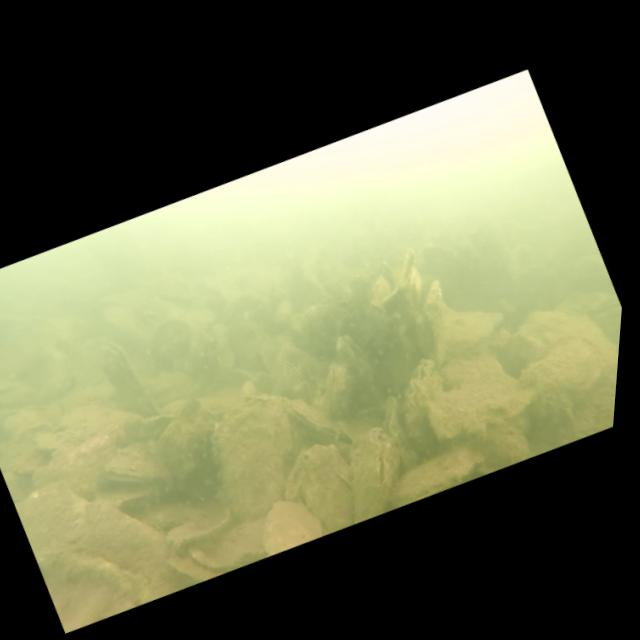Oyster-Closed: (322, 414, 425, 528), (134, 384, 236, 492), (382, 431, 492, 516), (378, 350, 464, 447), (272, 377, 358, 466), (367, 391, 426, 471), (269, 349, 317, 408), (314, 356, 359, 406)
Oyster-Indeterminate: (1, 438, 198, 640), (182, 377, 335, 538), (492, 279, 623, 411), (414, 352, 537, 459), (269, 430, 377, 548), (507, 319, 619, 423), (179, 507, 283, 592), (541, 339, 619, 446), (244, 485, 329, 563), (159, 496, 241, 560)
Oyster-Open: (387, 253, 473, 365), (82, 328, 169, 433), (433, 290, 515, 368), (95, 427, 173, 501), (326, 325, 379, 390)
